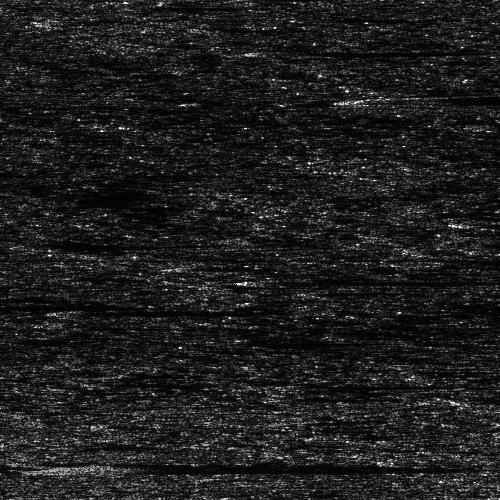rock: (151, 331, 266, 352), (249, 380, 332, 391), (21, 462, 114, 471), (227, 274, 300, 285), (227, 47, 320, 54), (26, 306, 109, 313), (0, 239, 40, 248), (356, 95, 409, 100), (52, 377, 83, 384), (248, 396, 289, 399)
shadow: (68, 462, 361, 471), (264, 274, 500, 285), (291, 380, 500, 391), (209, 331, 314, 352), (68, 306, 268, 313), (14, 239, 161, 248), (274, 47, 445, 54), (68, 377, 167, 384), (383, 95, 500, 100), (269, 396, 375, 399), (0, 304, 24, 307)
